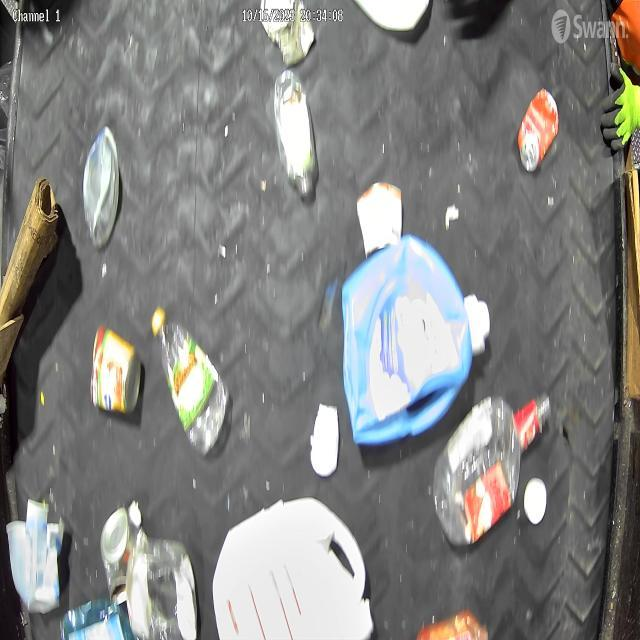can: (151, 304, 232, 458), (128, 523, 202, 640), (95, 496, 148, 616), (92, 328, 144, 424), (514, 79, 560, 186)
milk_jug: (208, 487, 375, 640)
non_white_jug: (342, 233, 491, 455)
